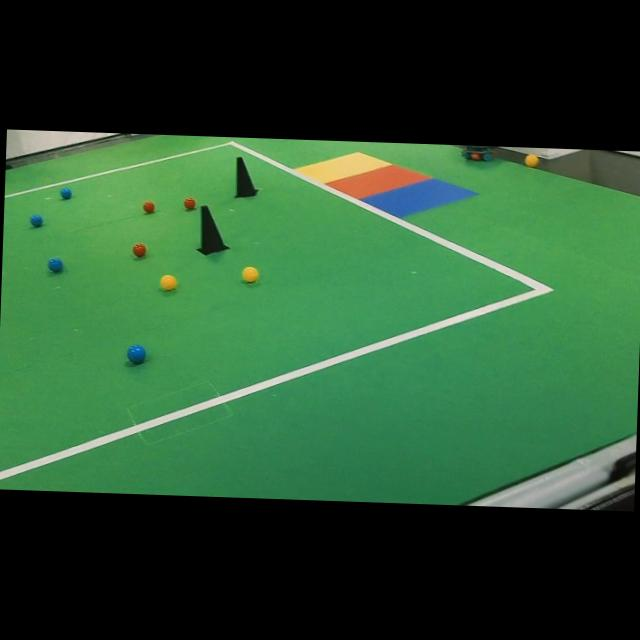ball: (126, 345, 145, 364), (242, 266, 259, 282), (160, 275, 176, 290), (47, 257, 63, 272), (132, 242, 146, 256), (524, 154, 538, 167), (183, 197, 196, 209), (143, 200, 155, 213), (30, 214, 42, 226), (60, 187, 72, 198)
goal: (362, 178, 477, 216), (327, 165, 430, 198), (295, 151, 390, 182)
